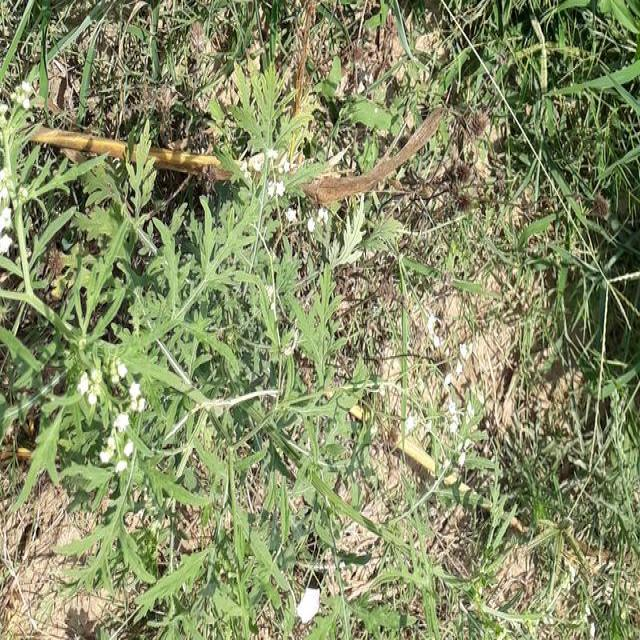weed: (0, 77, 298, 524), (483, 11, 640, 270)
